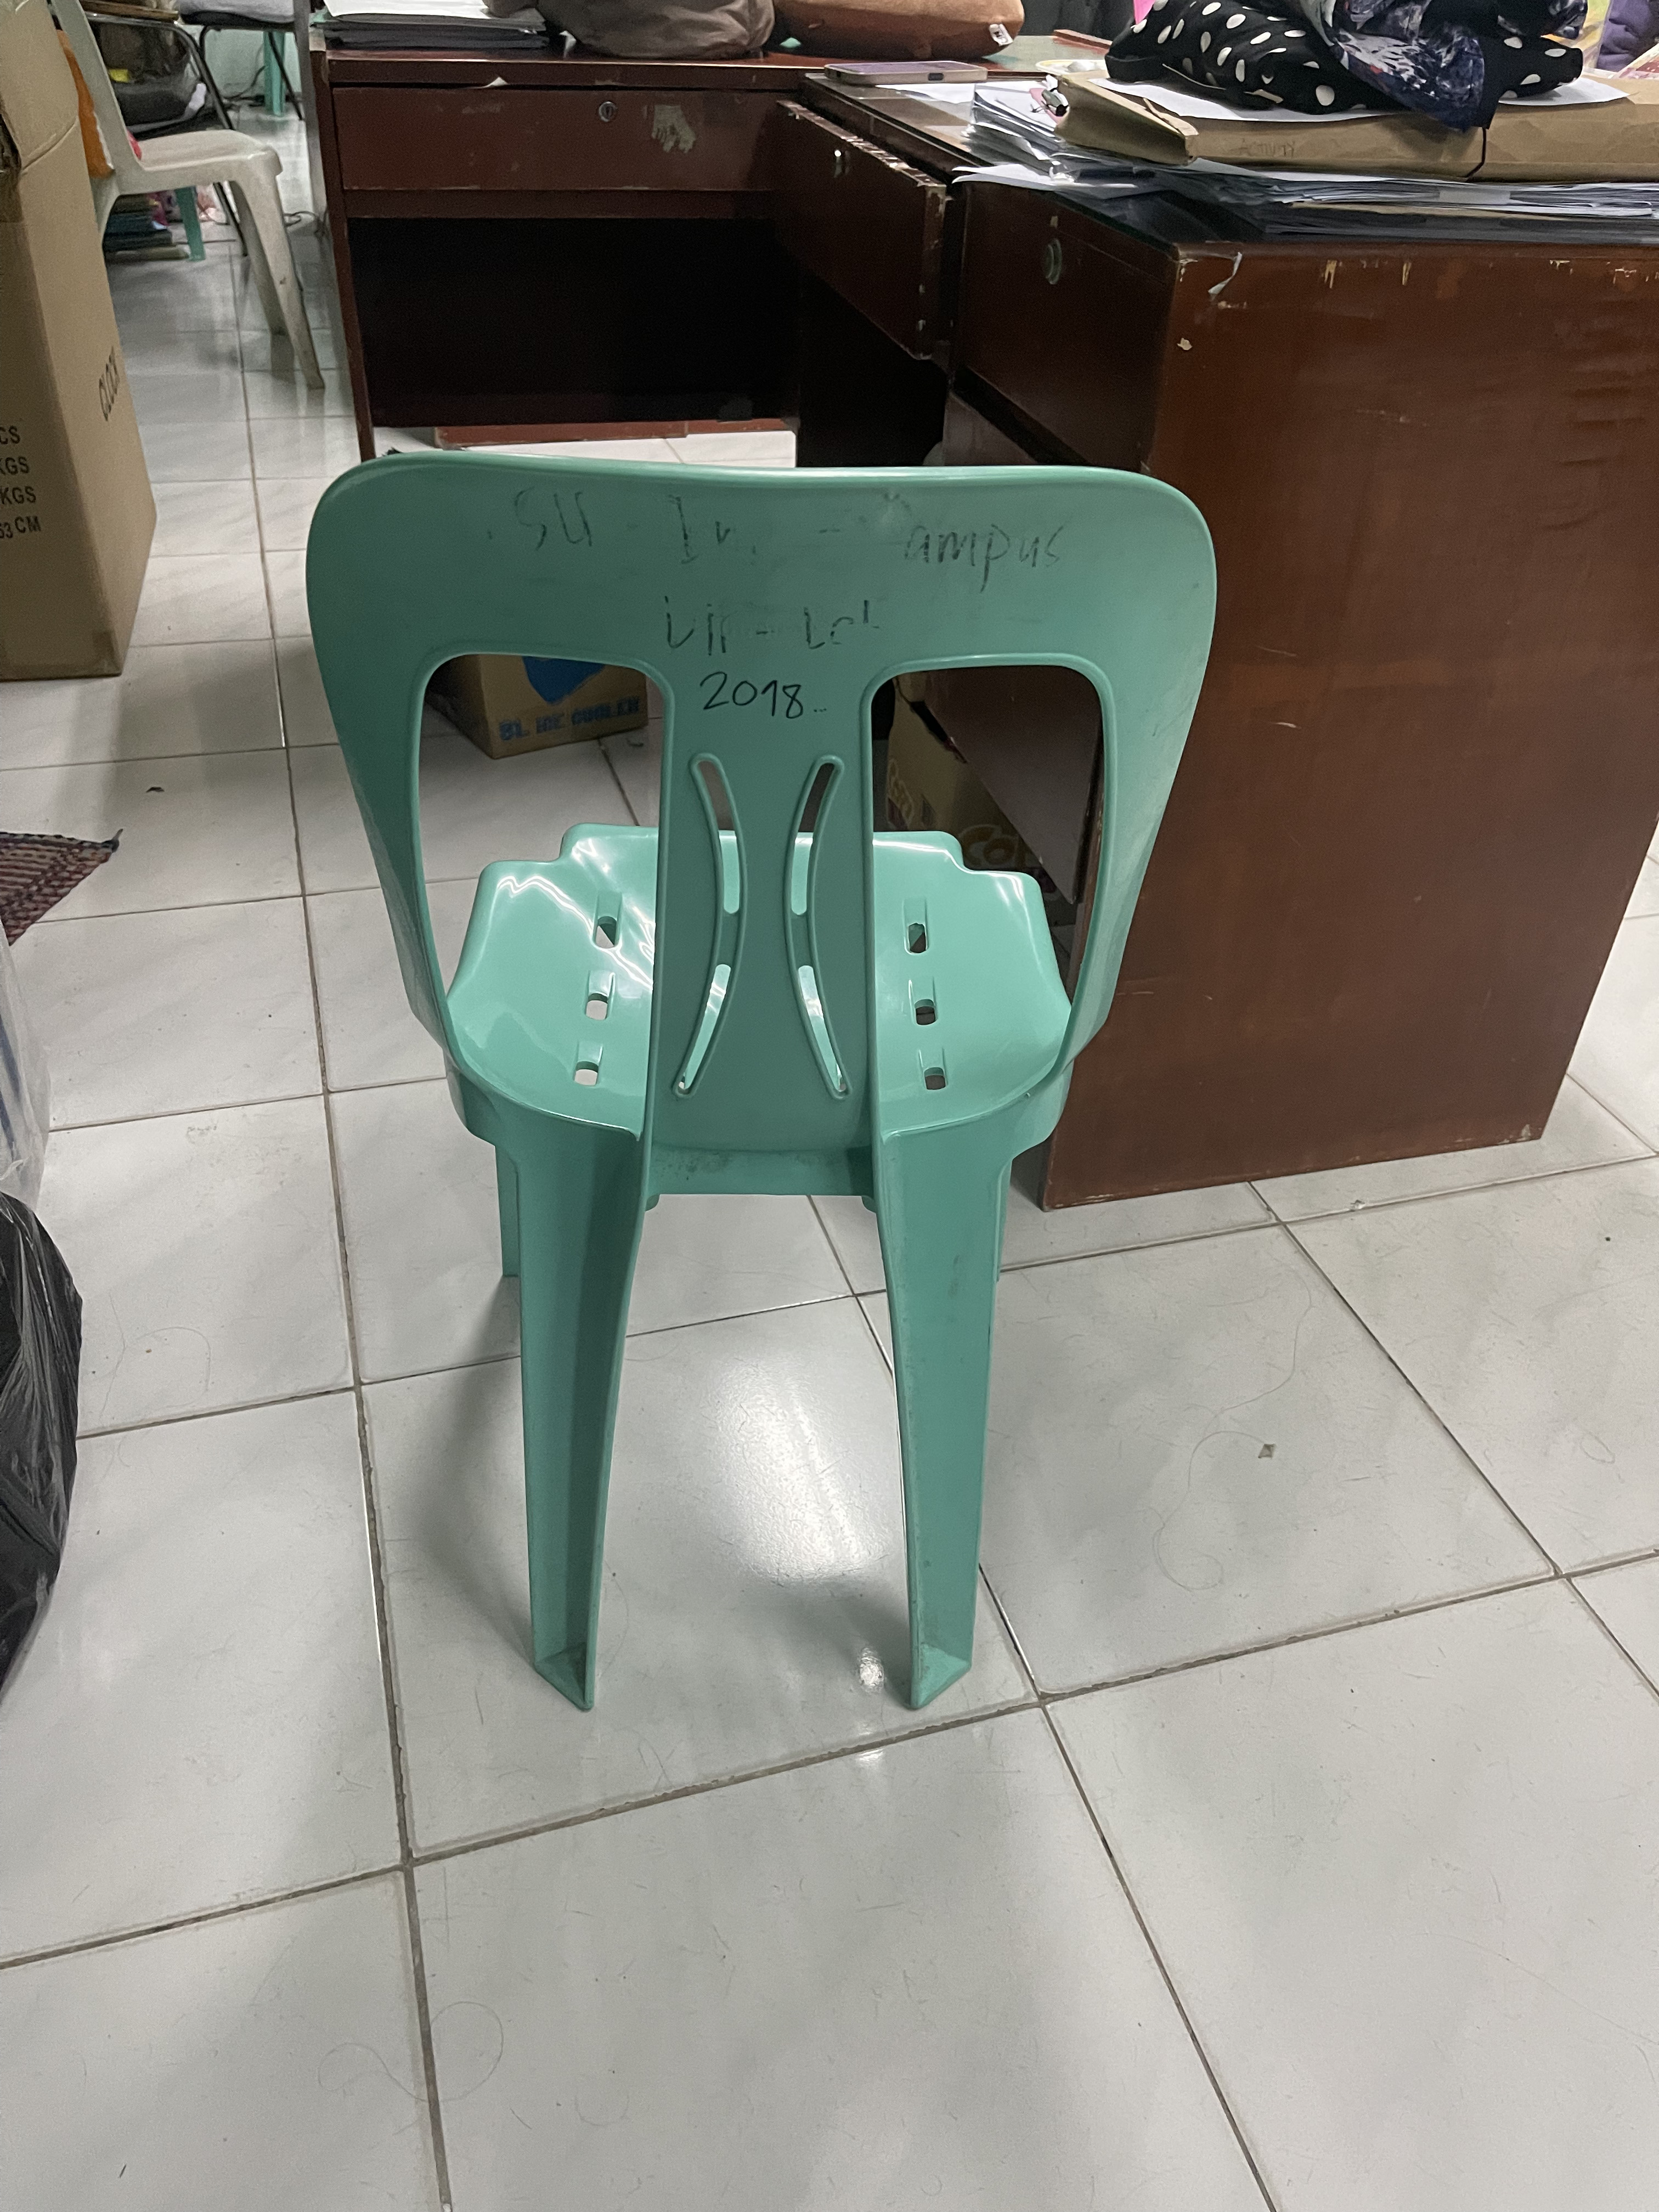chair2: (295, 441, 1237, 1737)
